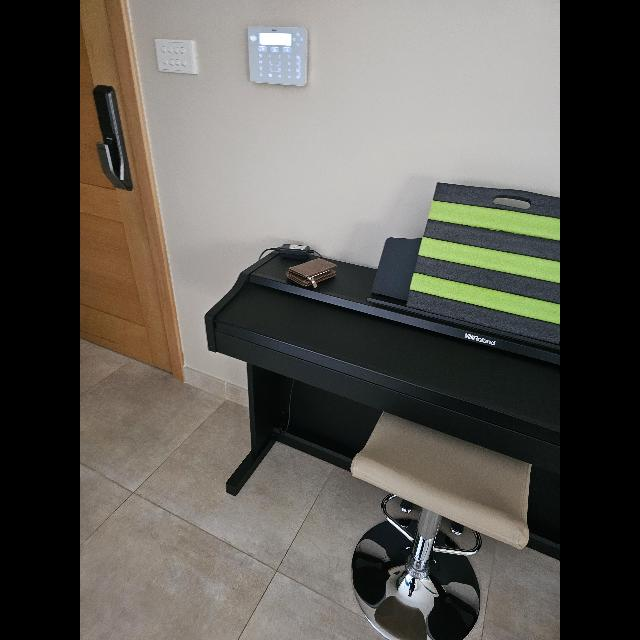Wallet: (286, 258, 338, 288)
